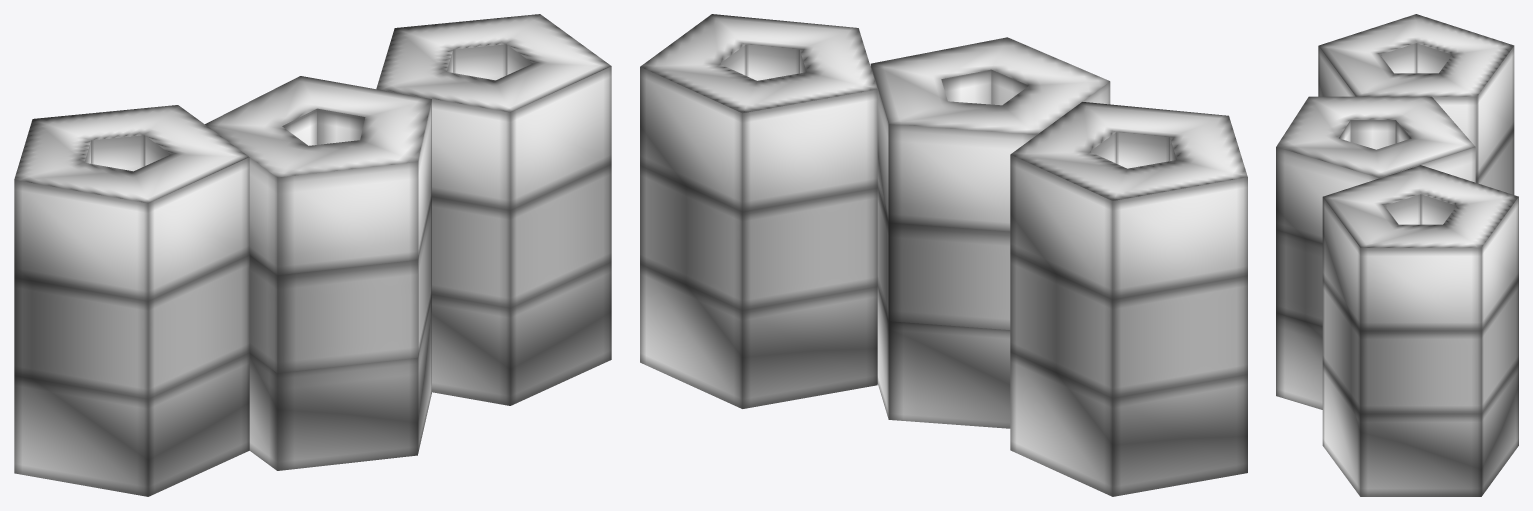
The model's file is Tires-02.fbx.
The picture shows the model from 3 angles, left to right: view 1: azimuth 30°, elevation 25°; view 2: azimuth 150°, elevation 25°; view 3: azimuth 270°, elevation 25°; orthographic projection. The views are drawn at different scales.
Parts seen in each view (by area): view 1: Tires-02; view 2: Tires-02; view 3: Tires-02.
Boxes of the visible parts, x1,y1,x2,y2 form: Tires-02: (14,14,611,496); Tires-02: (640,14,1247,496); Tires-02: (1276,14,1518,496).
Bounding box in the file's own units: 0.5033 × 0.25 × 0.2208.
